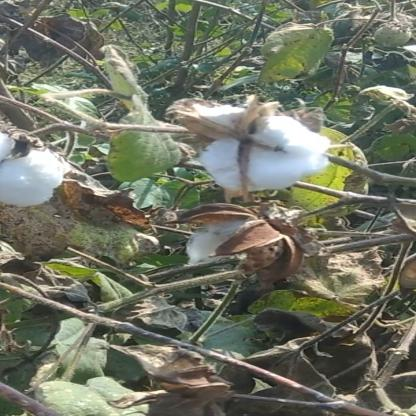cotton_ready: (152, 90, 350, 220)
